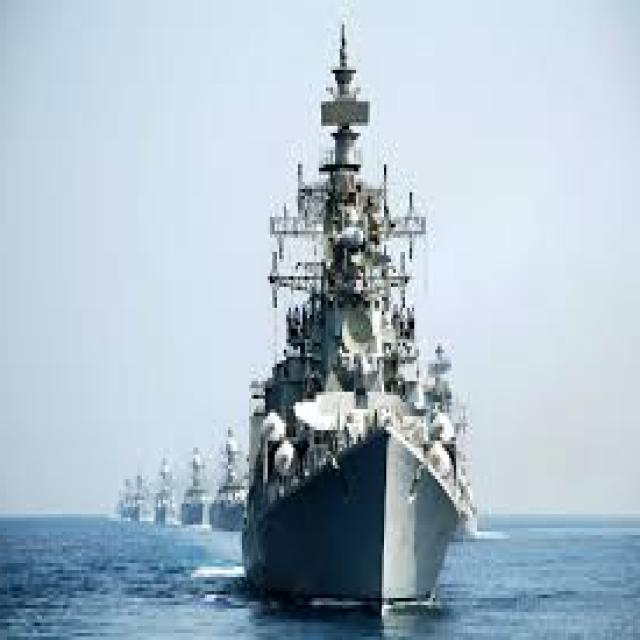navalvessels: (228, 30, 482, 630), (222, 414, 252, 554), (149, 463, 183, 542), (185, 452, 207, 532)
